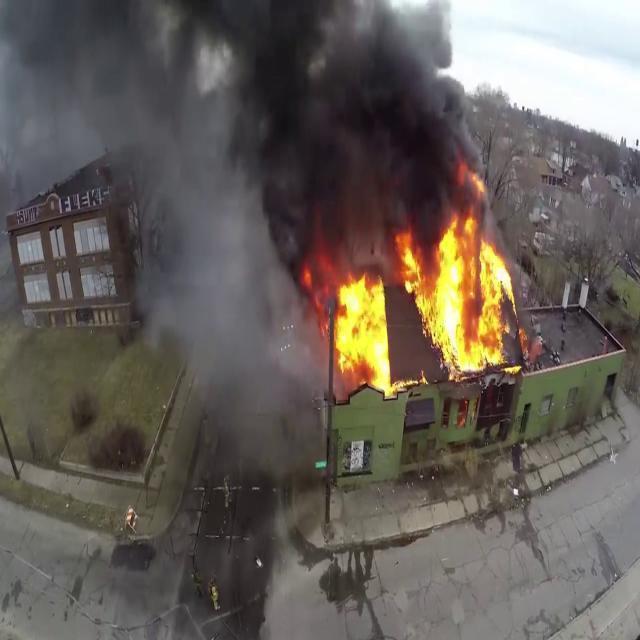Fire: (324, 206, 520, 388)
Smoke: (40, 0, 322, 460), (244, 0, 486, 251)
